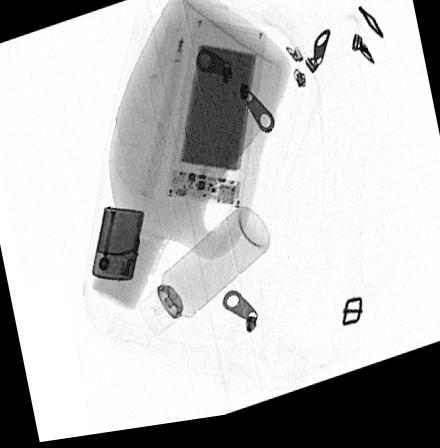Lighter: (91, 209, 144, 285)
Powerbank: (162, 25, 266, 216)
Sprayer: (137, 213, 270, 340)
